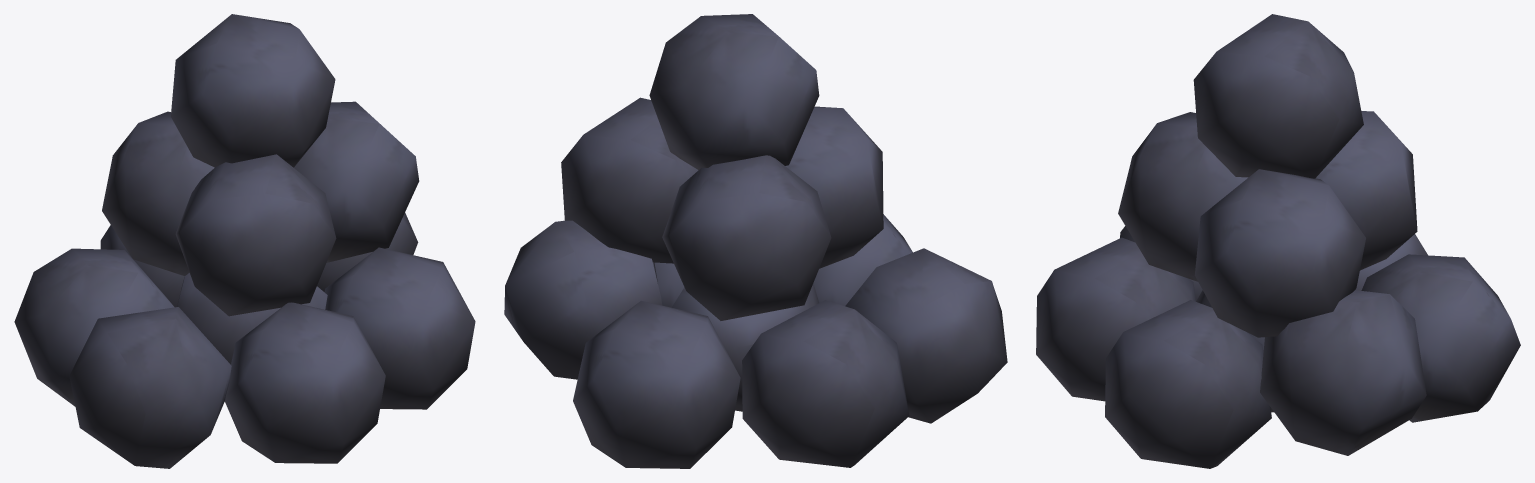
The model's file is CannonballBig.fbx.
3 renders of one model, left to right at view 1: azimuth 30°, elevation 25°; view 2: azimuth 150°, elevation 25°; view 3: azimuth 270°, elevation 25°, orthographic. The views are drawn at different scales.
Parts seen in each view (by area): view 1: BigCannonballs; view 2: BigCannonballs; view 3: BigCannonballs.
Boxes of the visible parts, x1,y1,x2,y2 form: BigCannonballs: (14,14,475,468); BigCannonballs: (504,14,1007,468); BigCannonballs: (1036,14,1520,468).
Size of the model in its own units: 413 by 375 by 424.
